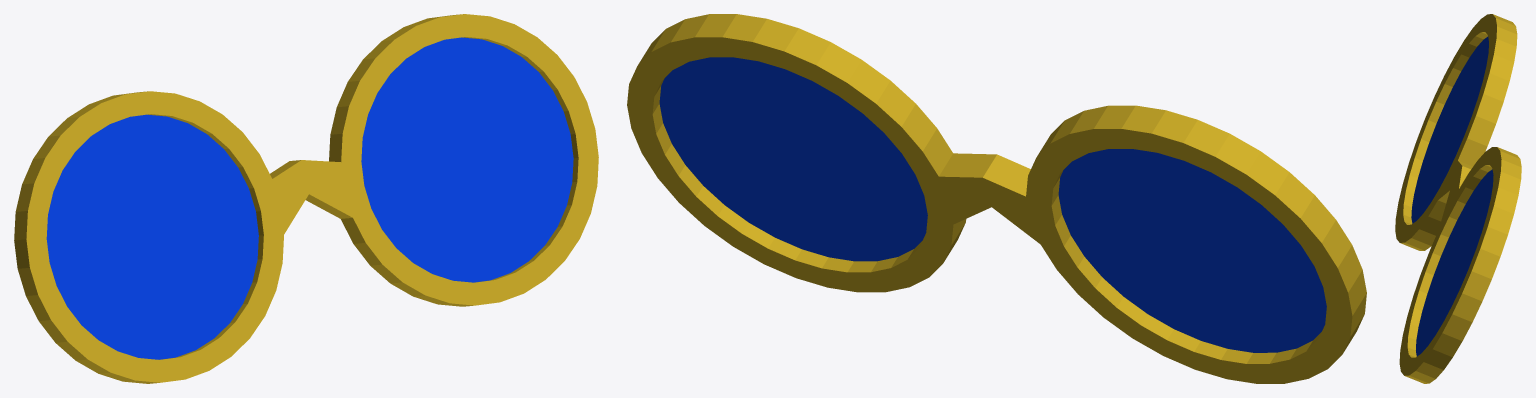
The model's file is gafas.fbx.
3 renders of one model, left to right at view 1: azimuth 30°, elevation 25°; view 2: azimuth 150°, elevation 25°; view 3: azimuth 270°, elevation 25°, orthographic. The views are drawn at different scales.
Parts seen in each view (by area): view 1: Cylinder.001; view 2: Cylinder.001; view 3: Cylinder.001.
Part boxes in pixels (x1=…): Cylinder.001: x1=14, y1=14, x2=598, y2=383; Cylinder.001: x1=627, y1=14, x2=1366, y2=383; Cylinder.001: x1=1395, y1=14, x2=1521, y2=383.
Size of the model in its own units: 0.6685 by 0.2833 by 0.1518.
